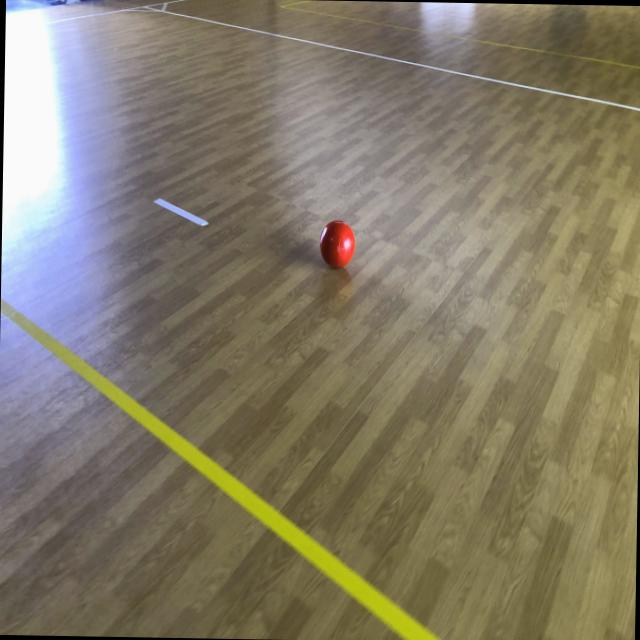red_ball: (318, 220, 356, 270)
